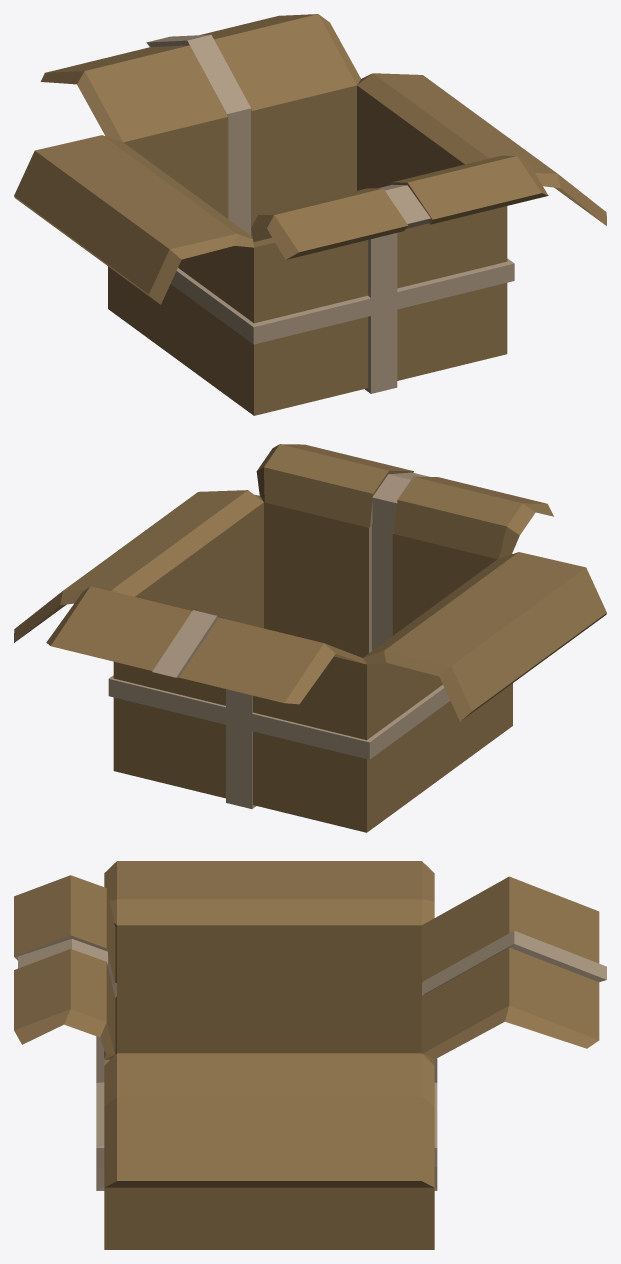
Rendered from carton 1.fbx.
The picture shows the model from 3 angles, top to bottom: view 1: azimuth 30°, elevation 25°; view 2: azimuth 150°, elevation 25°; view 3: azimuth 270°, elevation 25°; orthographic projection. The views are drawn at different scales.
Parts seen in each view (by area): view 1: pCube9; view 2: pCube9; view 3: pCube9.
Part boxes in pixels (left/top/right/bottom): pCube9: left=14, top=14, right=606, bottom=415; pCube9: left=14, top=444, right=606, bottom=832; pCube9: left=14, top=861, right=606, bottom=1249.
Size of the model in its own units: 3.19 by 1.45 by 3.16.
